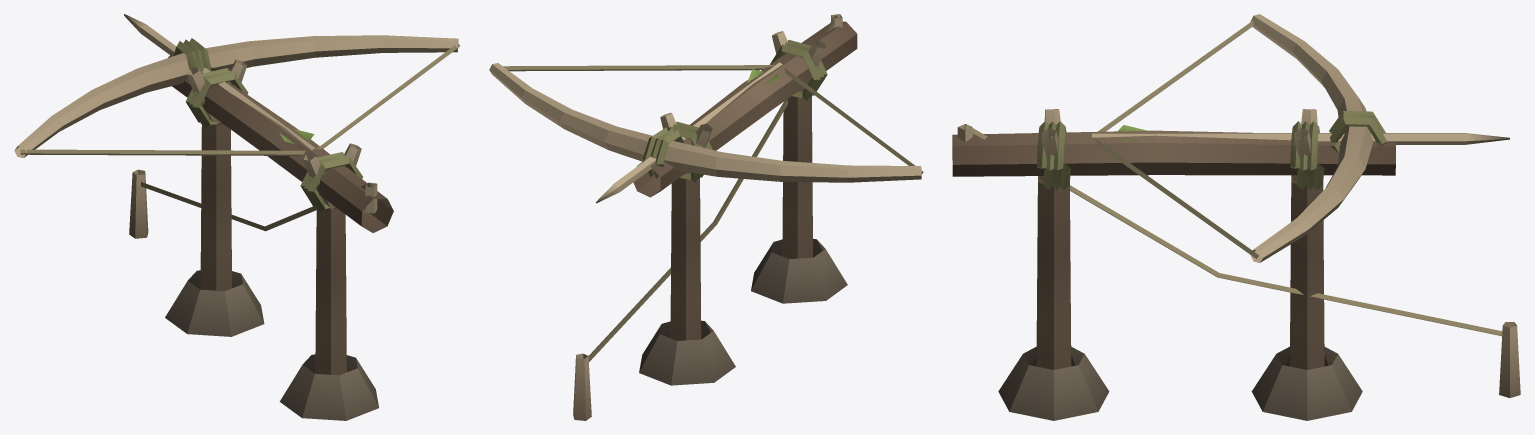
File: trip_bow_a.glb
3 views of the same model, side by side, from view 1: azimuth 30°, elevation 25°; view 2: azimuth 150°, elevation 25°; view 3: azimuth 270°, elevation 25° (orthographic). The views are drawn at different scales.
Parts seen in each view (by area): view 1: Frame, Bow, String, Arrow; view 2: Frame, Bow, String, Arrow; view 3: Frame, Bow, Arrow, String.
Boxes of the visible parts, x1=… form: Frame: x1=129, y1=53, x2=393, y2=420; Bow: x1=14, y1=35, x2=458, y2=157; String: x1=20, y1=43, x2=459, y2=155; Arrow: x1=124, y1=14, x2=316, y2=149; Frame: x1=573, y1=14, x2=857, y2=420; Bow: x1=489, y1=63, x2=921, y2=182; String: x1=503, y1=65, x2=923, y2=174; Arrow: x1=596, y1=62, x2=782, y2=203; Frame: x1=952, y1=109, x2=1520, y2=420; Bow: x1=1250, y1=14, x2=1387, y2=262; Arrow: x1=1092, y1=125, x2=1509, y2=144; String: x1=1094, y1=20, x2=1258, y2=258.
Size of the model in its own units: 0.8929 by 0.4907 by 0.8976.
